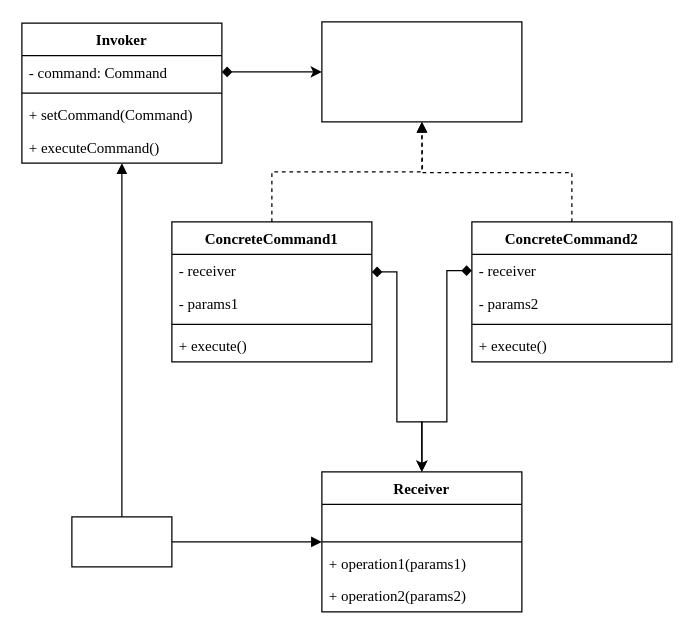
Image size: 694x638. Some labels were removed from this diagram. The shapes that lost their labels are listed below. From the top down, each one's centre as x and y in pixels, then its label:
point (421, 71): <<Interface>> Command + execute()
point (121, 541): Client
